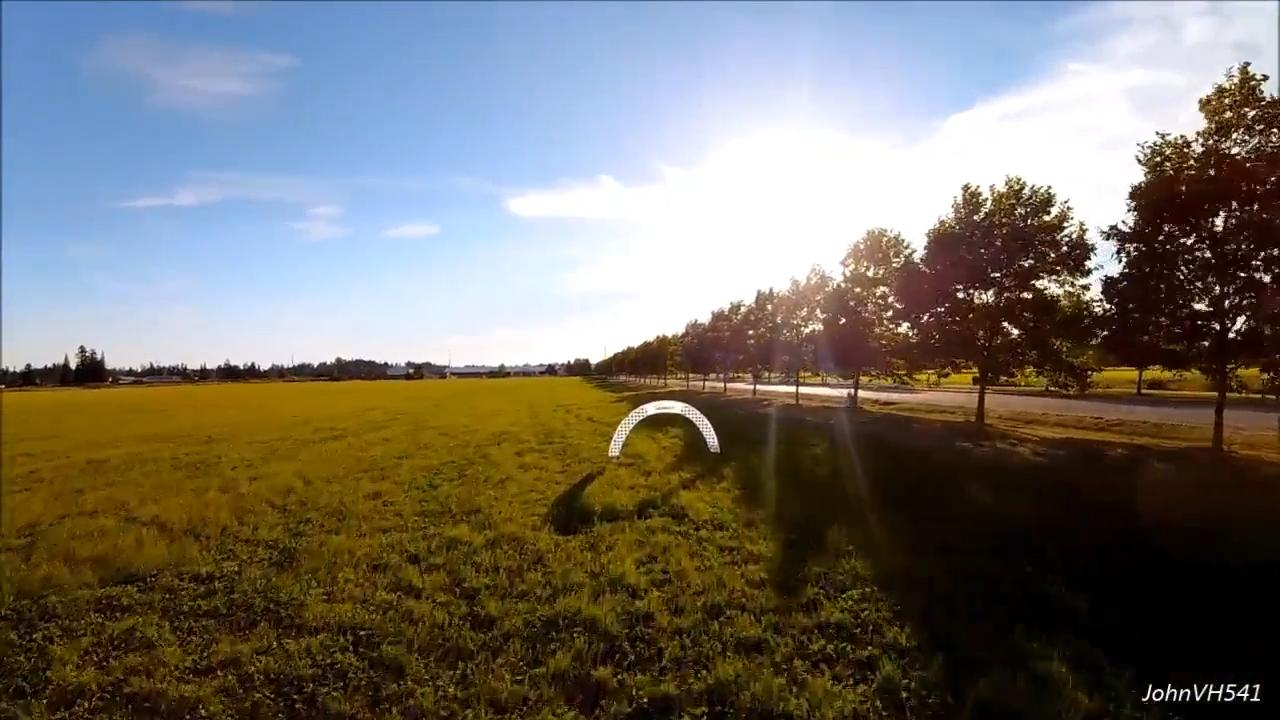gate: (605, 396, 723, 457)
